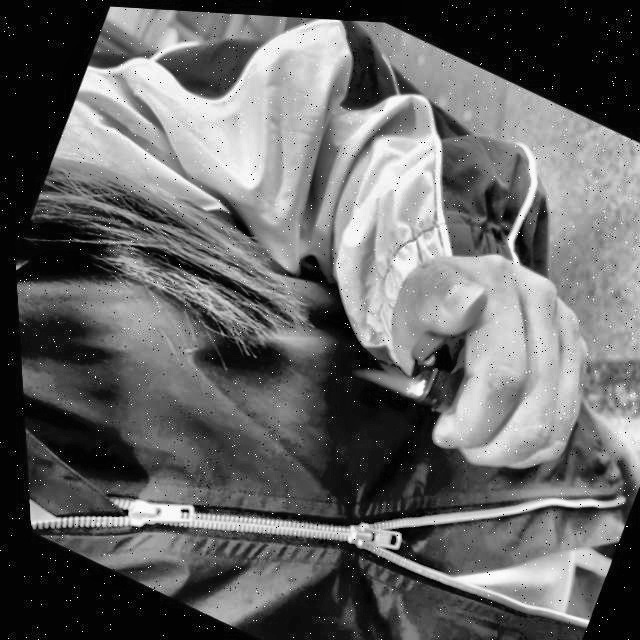Fire: (346, 349, 419, 397)
